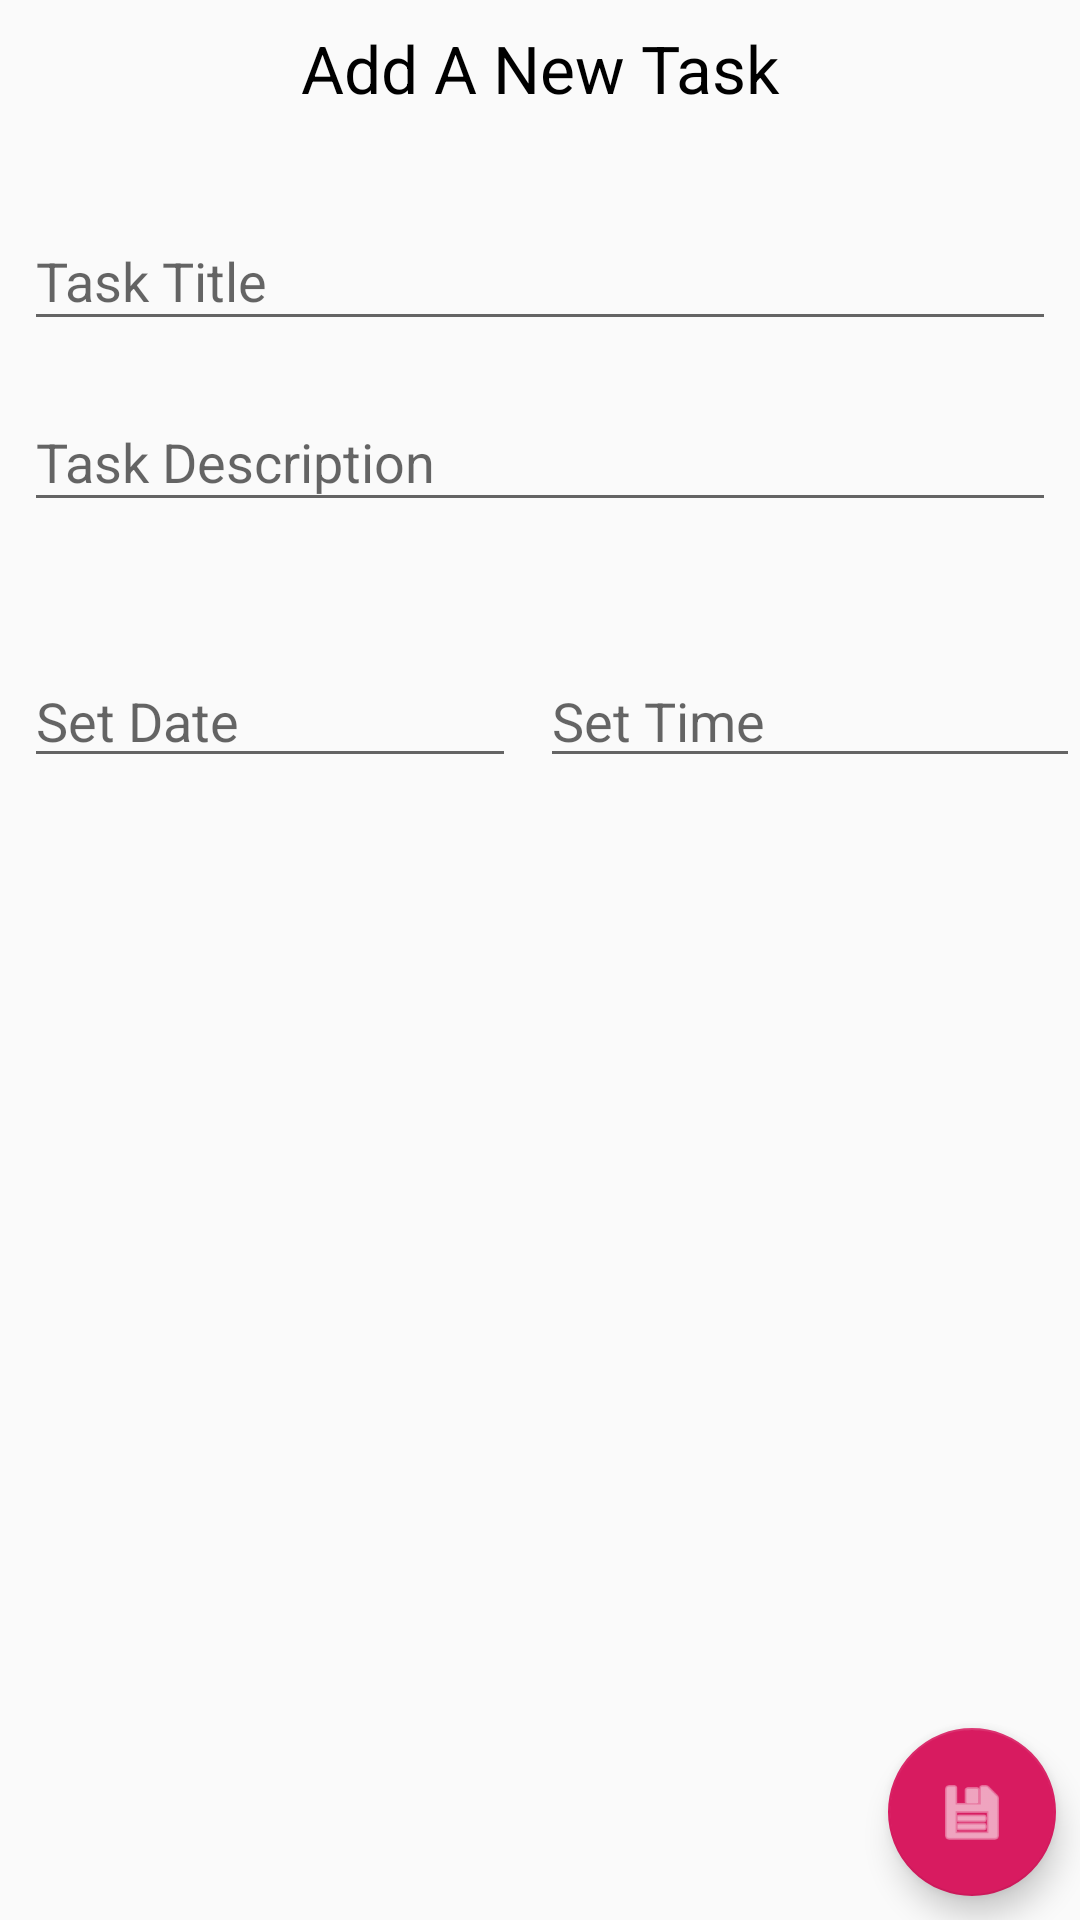

Screen size 1080px×1920px. Icon name, then its center in pixels as [x,y]:
save: [972,1812]
